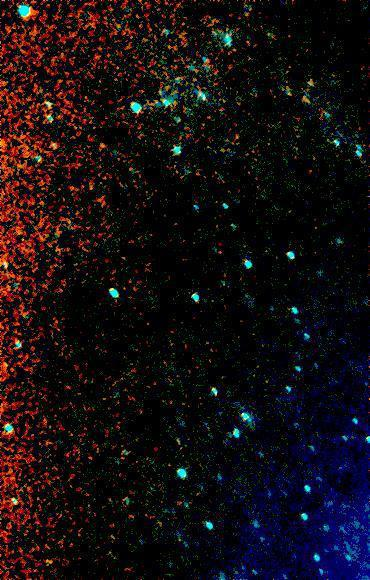star: (92, 132, 122, 162)
